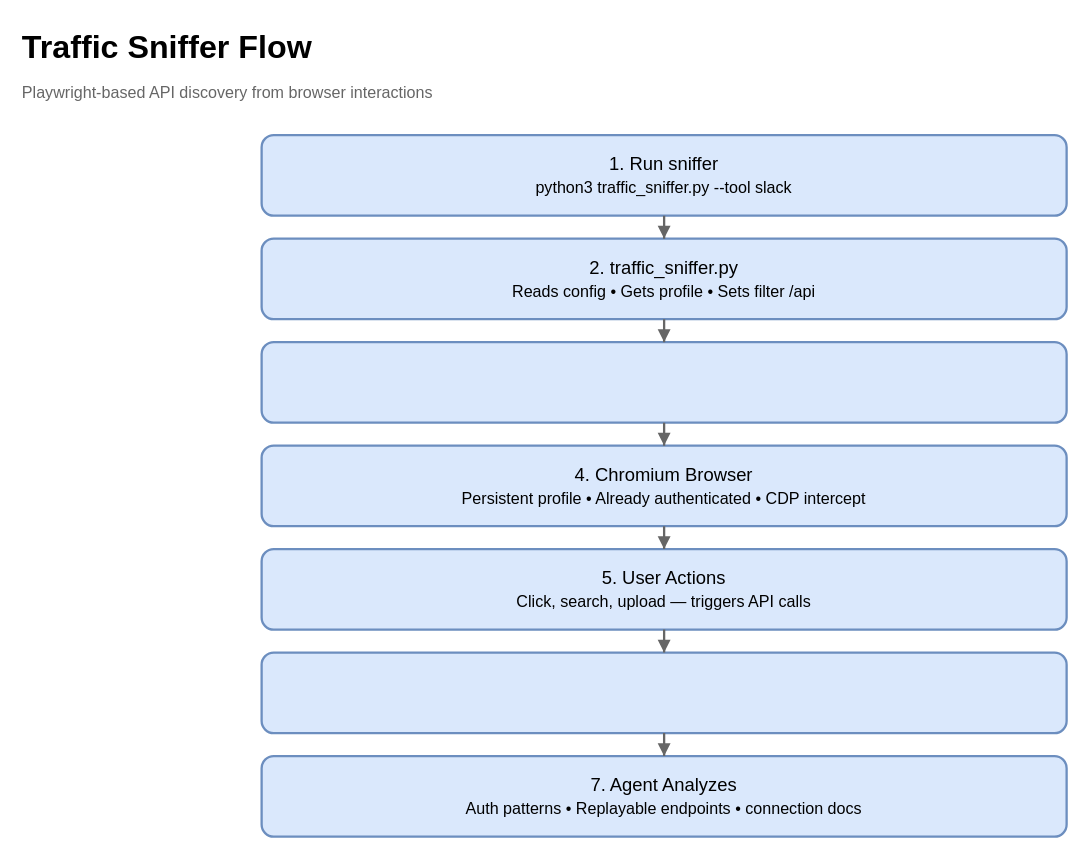
This 1087x857 diagram has some shape labels left out. The centre of each missing label's shape, as x and y in pixels:
"3. Playwright SDK launch_persistent_context() • request/response listeners" goes at (663,381).
"6. Intercept Traffic Extract method, URL, headers, body → JSONL" goes at (663,692).
